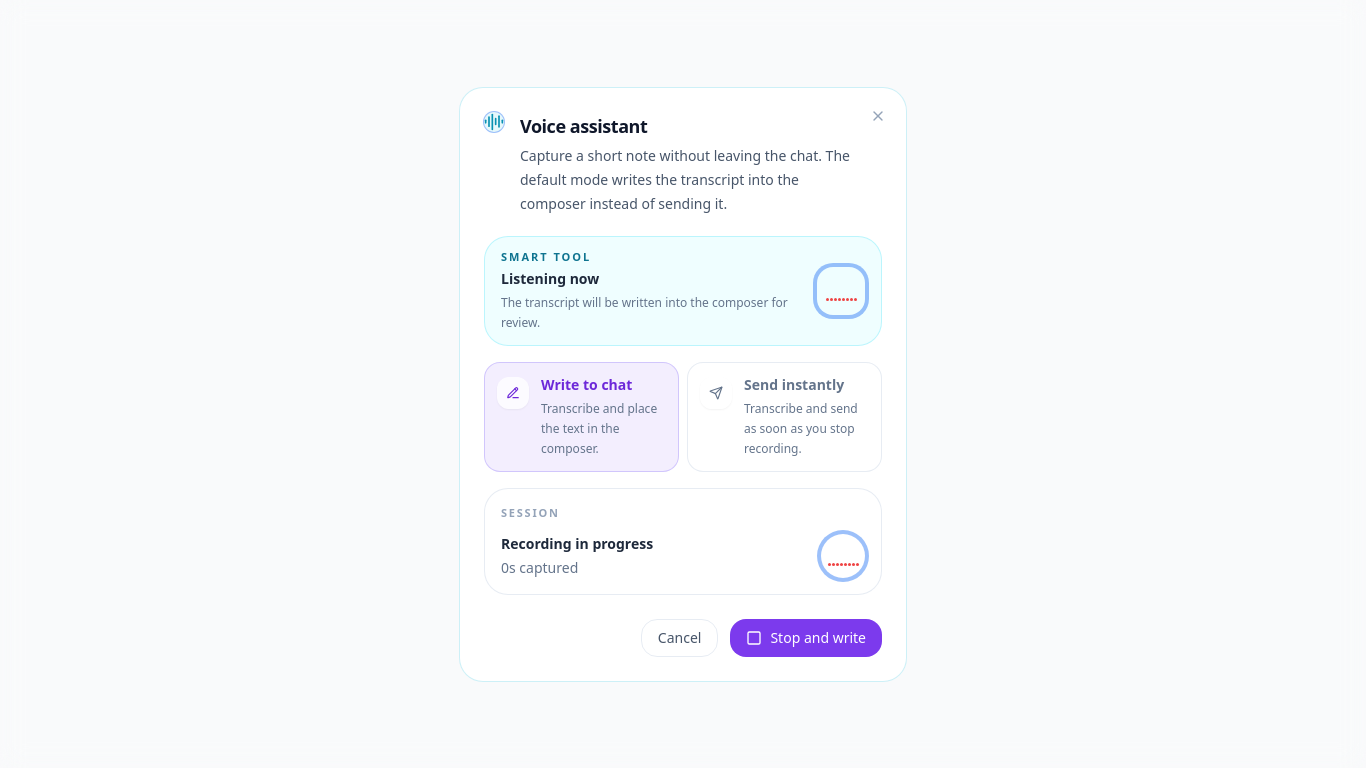
Scenario: ChatVoiceDialog › shows a product error when transcription is not deployed on the API
The image size is (1366, 768).
Click the button "Stop and write": (806,638) [730,618,882,656]
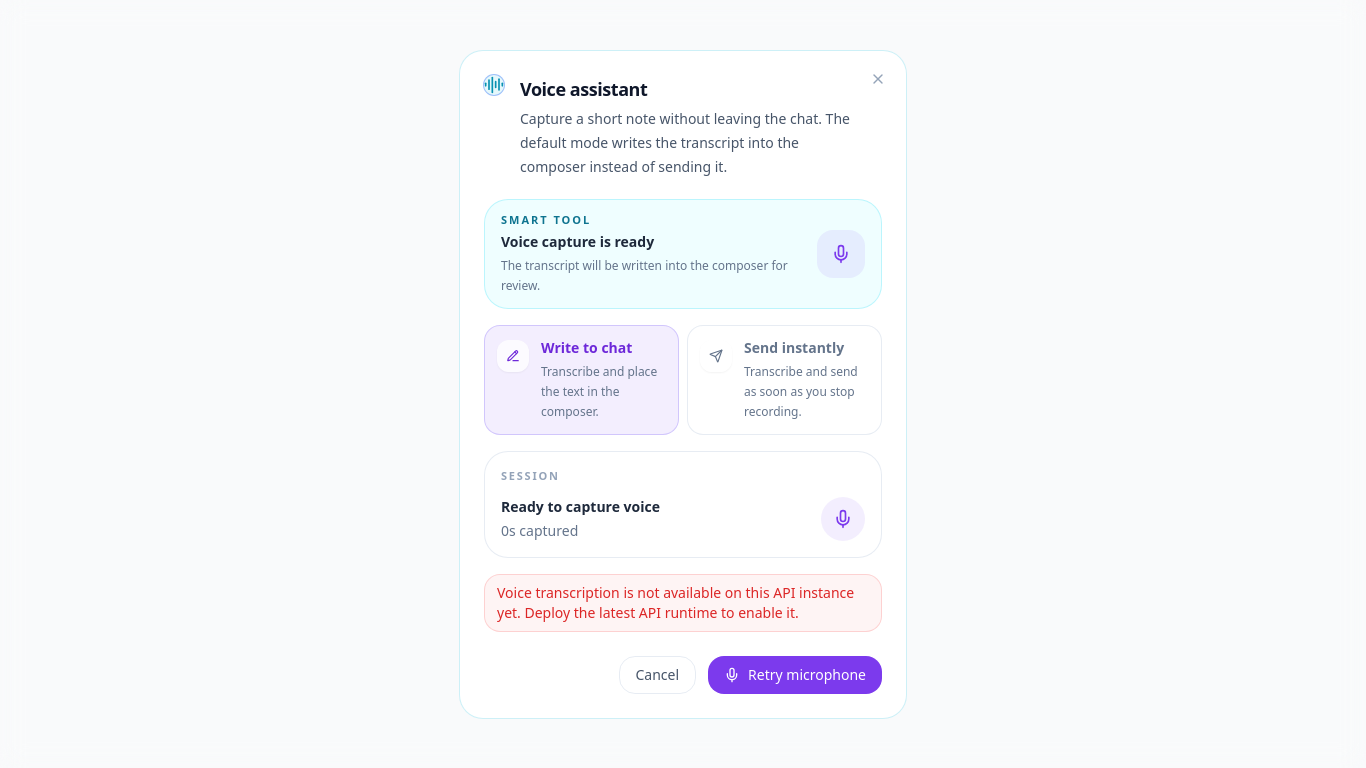
expect the text "Voice transcription is not available on this API instance yet. Deploy the latest API runtime to enable it." is shown: met, box [497,582,854,622]
